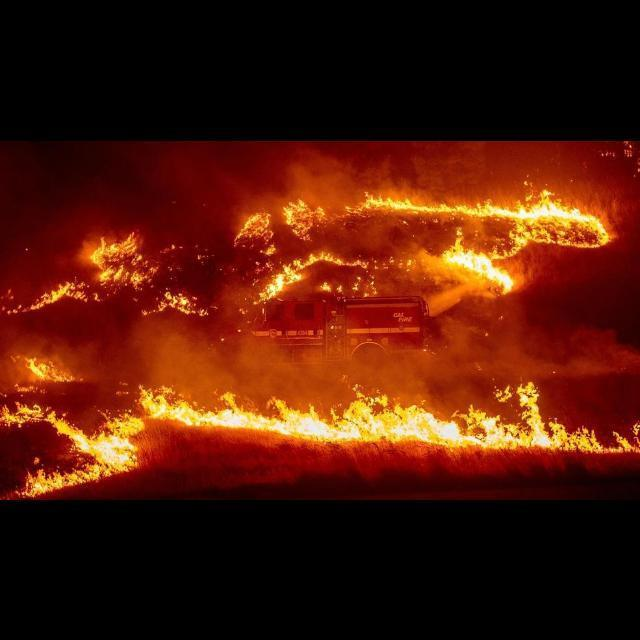Fire: (1, 352, 640, 500), (233, 188, 609, 302), (2, 229, 212, 317)
Smoke: (1, 144, 640, 423)
